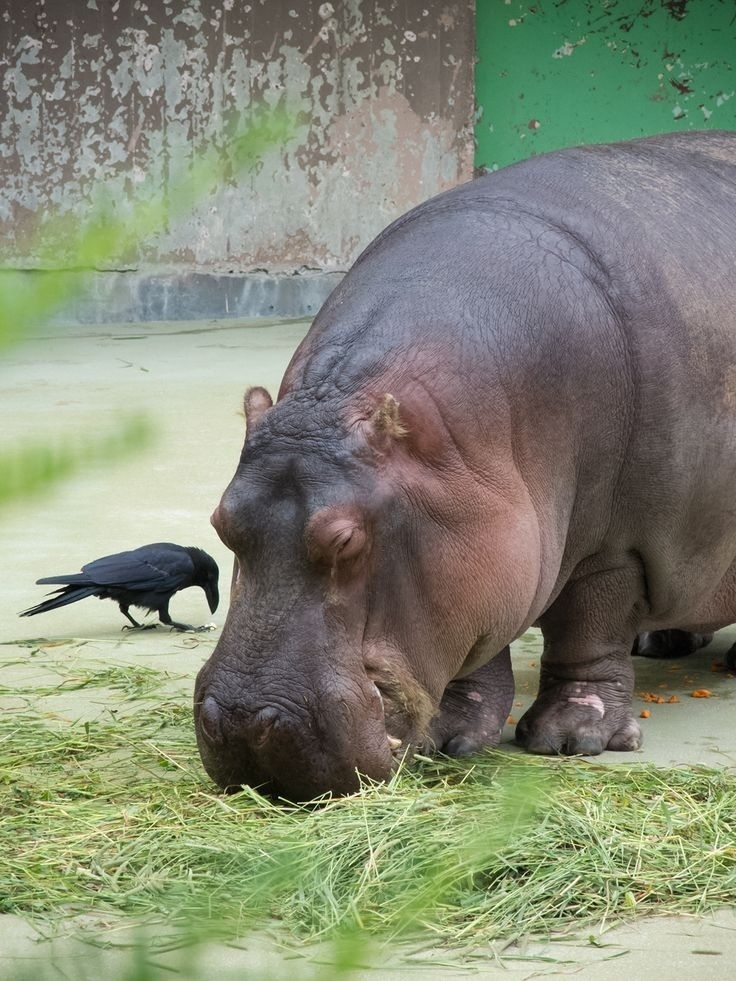hipopotamo: (176, 90, 736, 830)
